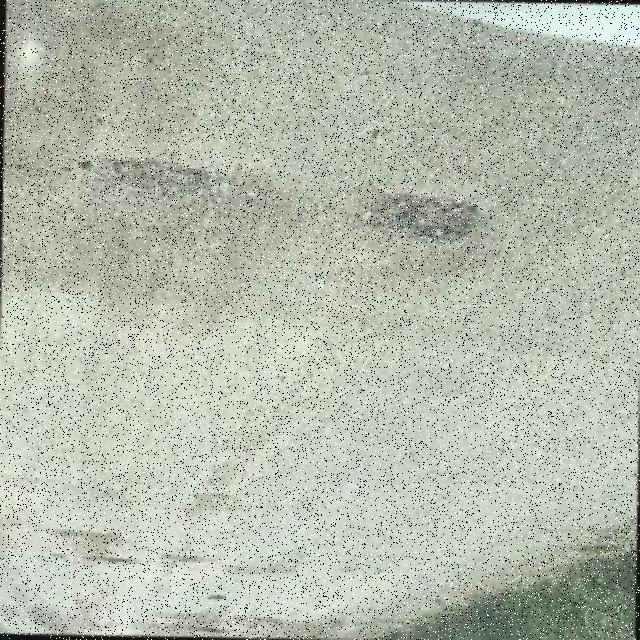Pothole: (358, 193, 476, 243), (85, 158, 210, 196)
